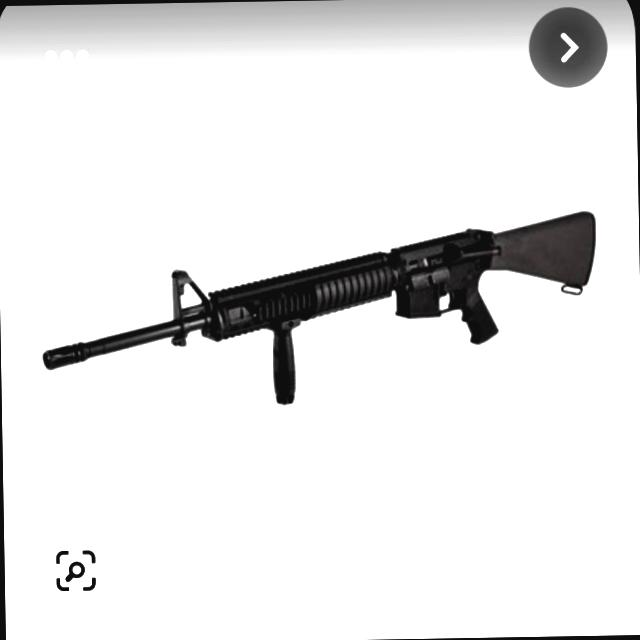m16: (161, 178, 614, 424)
